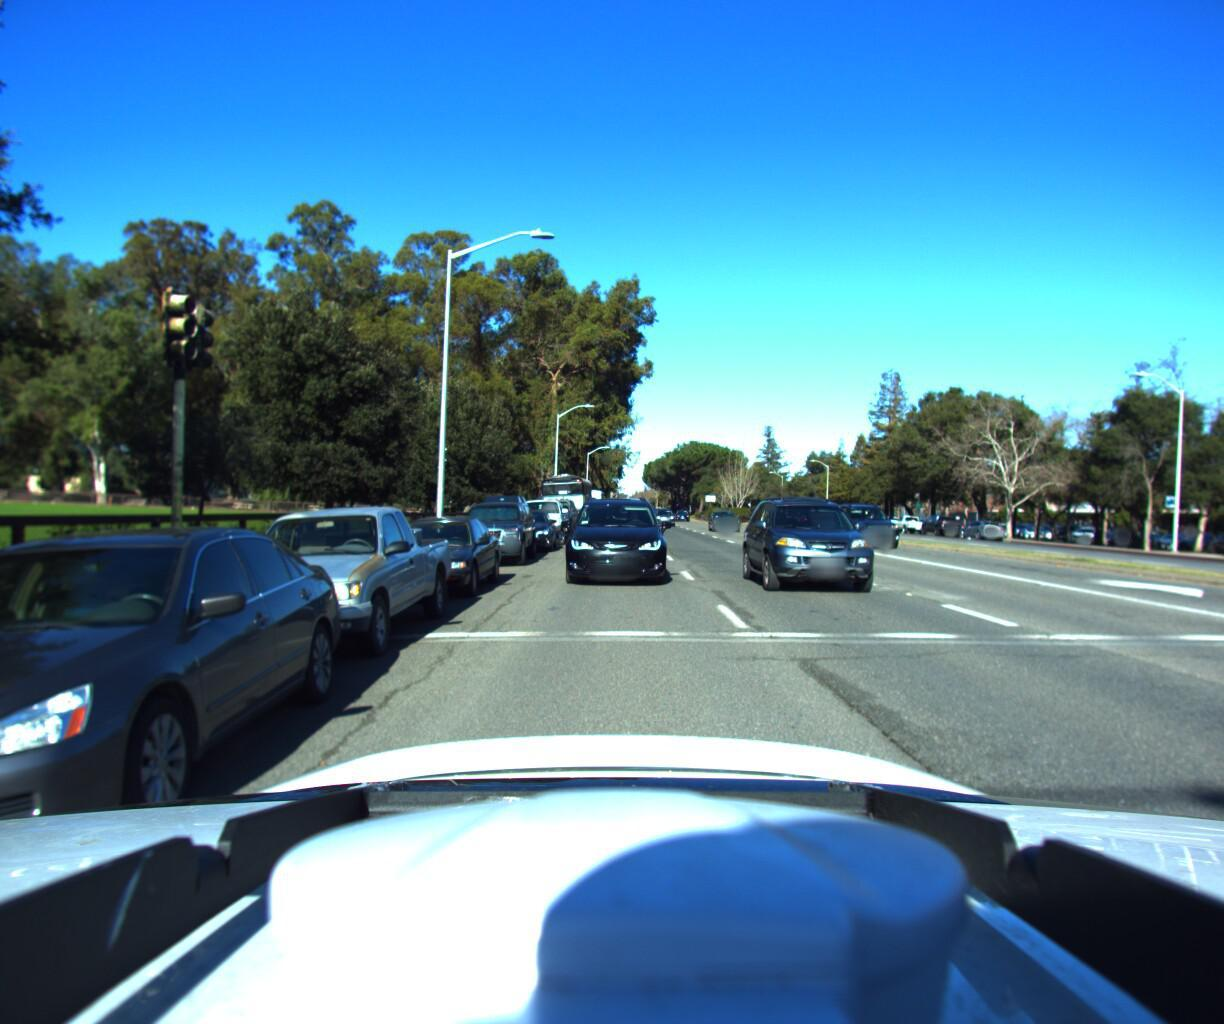bus: (536, 469, 596, 540)
car: (174, 503, 460, 687), (743, 490, 919, 612), (356, 514, 509, 609), (562, 495, 666, 594), (448, 493, 541, 573), (832, 504, 917, 550), (496, 509, 559, 558), (512, 498, 572, 549), (529, 497, 582, 543), (955, 518, 1009, 543), (918, 513, 966, 538), (893, 513, 931, 536), (708, 510, 745, 533), (652, 505, 676, 527)
other_vehicle: (567, 486, 606, 529)
